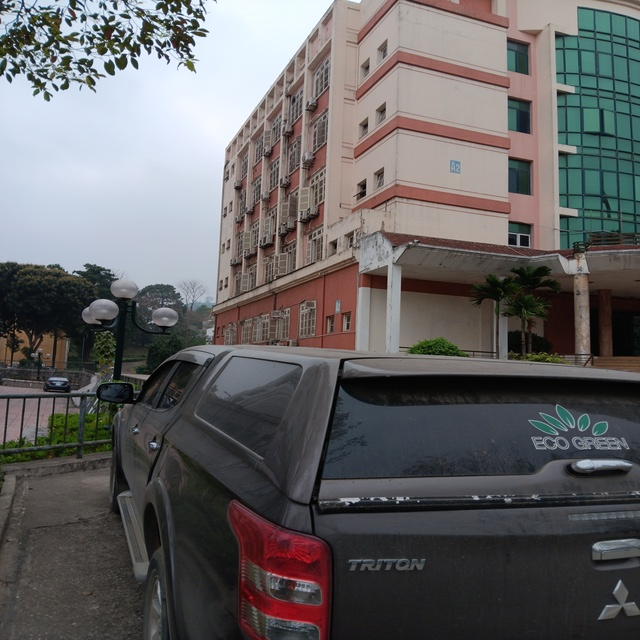cotden: (73, 277, 179, 426)
